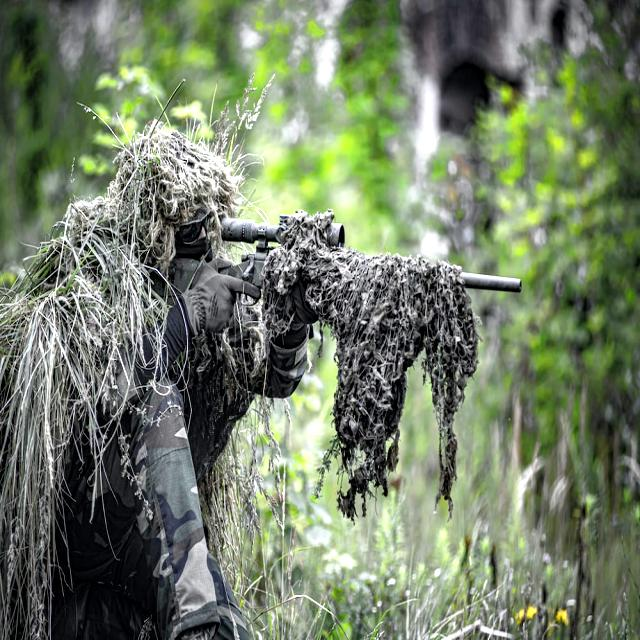rifle: (190, 206, 542, 334)
